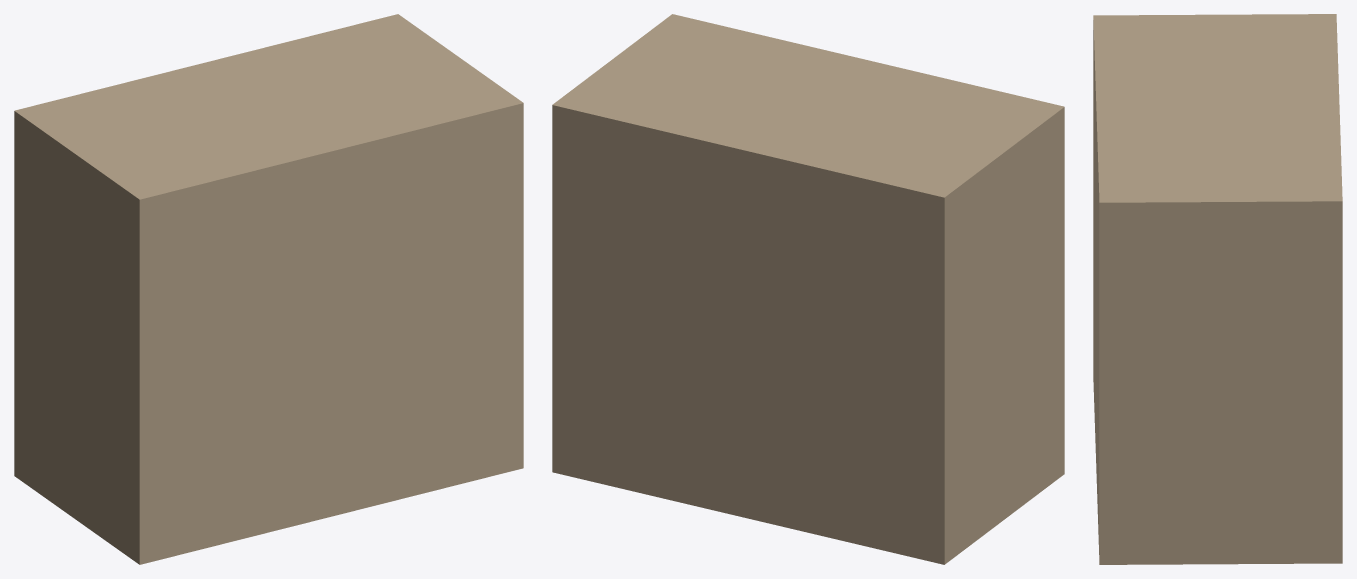
File: bld_164496101.dae
The picture shows the model from 3 angles, left to right: view 1: azimuth 30°, elevation 25°; view 2: azimuth 150°, elevation 25°; view 3: azimuth 270°, elevation 25°; orthographic projection.
Visible parts, largest first — view 1: bld_164496101; view 2: bld_164496101; view 3: bld_164496101.
Boxes of the visible parts, box(x1,y1,x2,y2) form: bld_164496101: box(14, 14, 523, 564); bld_164496101: box(552, 14, 1064, 564); bld_164496101: box(1093, 14, 1342, 564).
Bounding box in the file's own units: 8.94 × 4.99 × 8.
